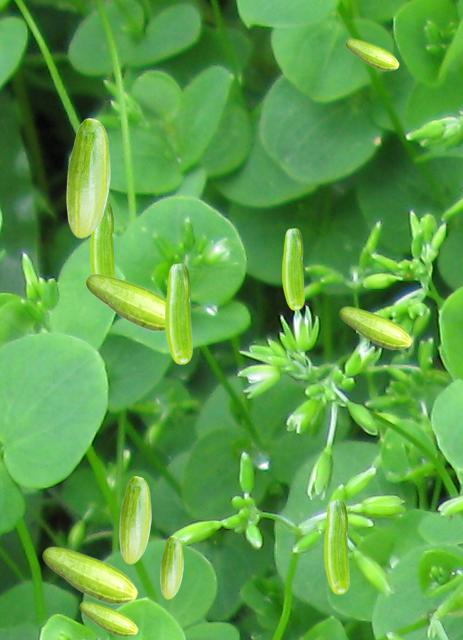cucumber: (42, 546, 137, 604), (66, 118, 109, 237), (85, 273, 164, 331), (339, 306, 411, 349), (119, 476, 150, 563), (165, 263, 191, 363), (324, 499, 348, 593), (79, 601, 137, 636), (90, 200, 114, 275), (282, 228, 303, 309), (345, 38, 398, 70), (160, 536, 182, 598)
